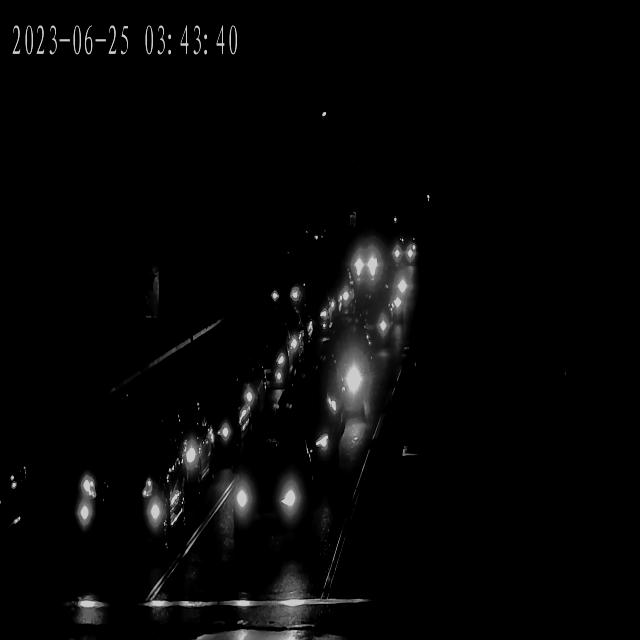Car: (60, 419, 180, 539), (229, 431, 315, 568), (152, 397, 215, 506), (280, 391, 344, 488), (304, 333, 377, 418), (189, 366, 254, 458), (244, 334, 292, 407), (264, 301, 309, 374), (297, 288, 342, 338), (349, 306, 398, 349), (265, 267, 314, 306), (315, 276, 360, 314), (378, 277, 406, 321), (347, 247, 382, 280), (392, 236, 421, 265)
